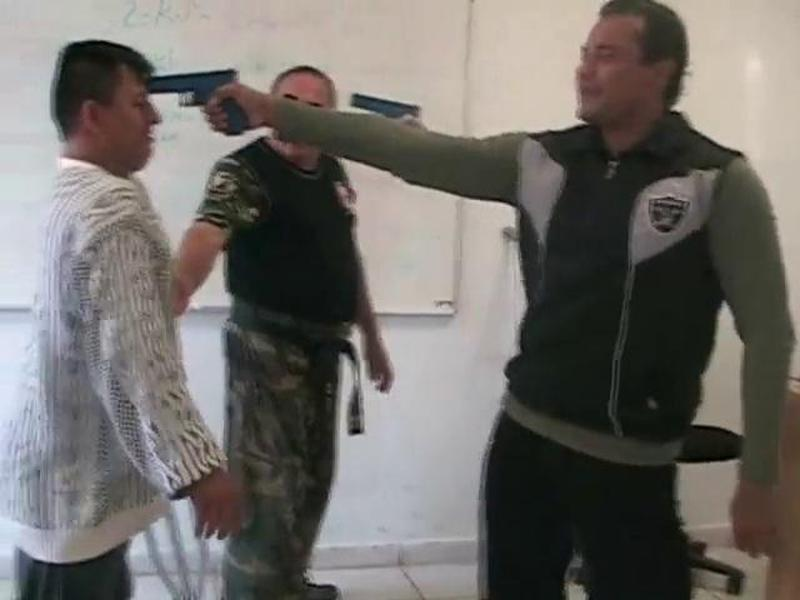Pistola: (128, 56, 257, 151)
